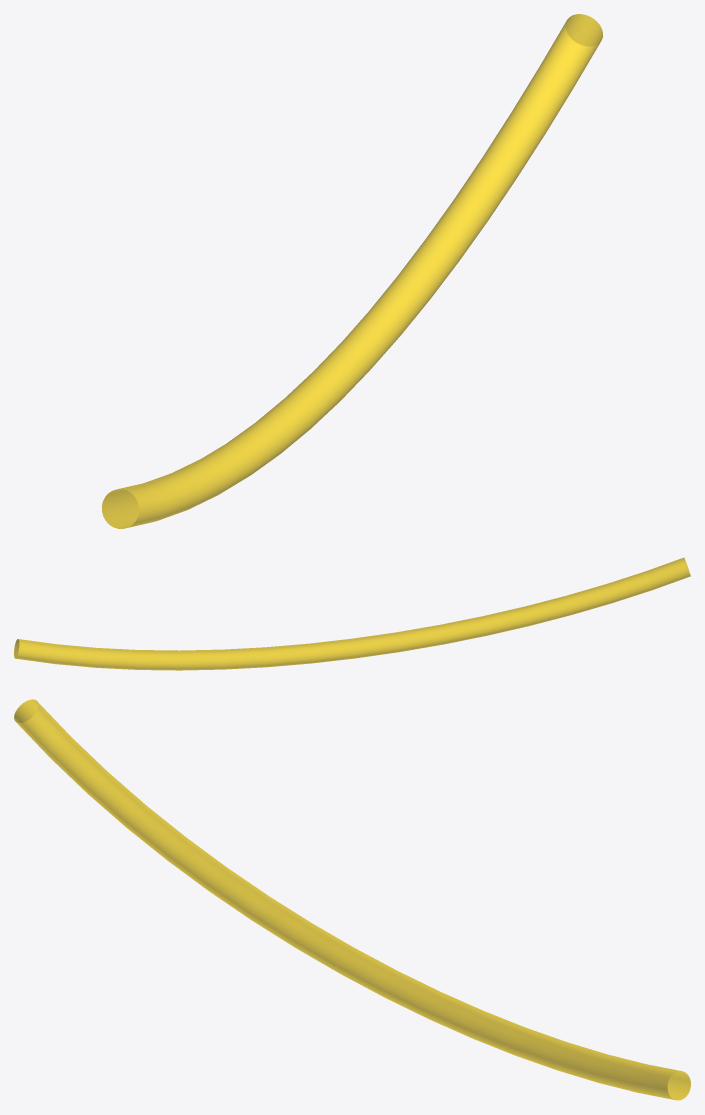
File: Event_100608114_track_116.fbx
The picture shows the model from 3 angles, top to bottom: view 1: azimuth 30°, elevation 25°; view 2: azimuth 150°, elevation 25°; view 3: azimuth 270°, elevation 25°; orthographic projection. The views are drawn at different scales.
Visible parts, largest first — view 1: Model; view 2: Model; view 3: Model.
Boxes of the visible parts, x1,y1,x2,y2 form: Model: (102, 14, 602, 528); Model: (14, 557, 690, 670); Model: (14, 699, 690, 1100).
Bounding box in the file's own units: 1.06 × 0.1688 × 0.9048.
